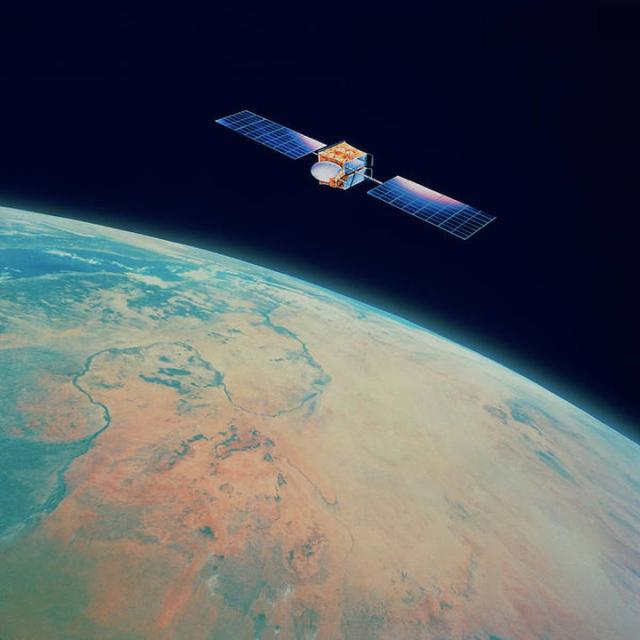medium_debris: (214, 98, 496, 252)
